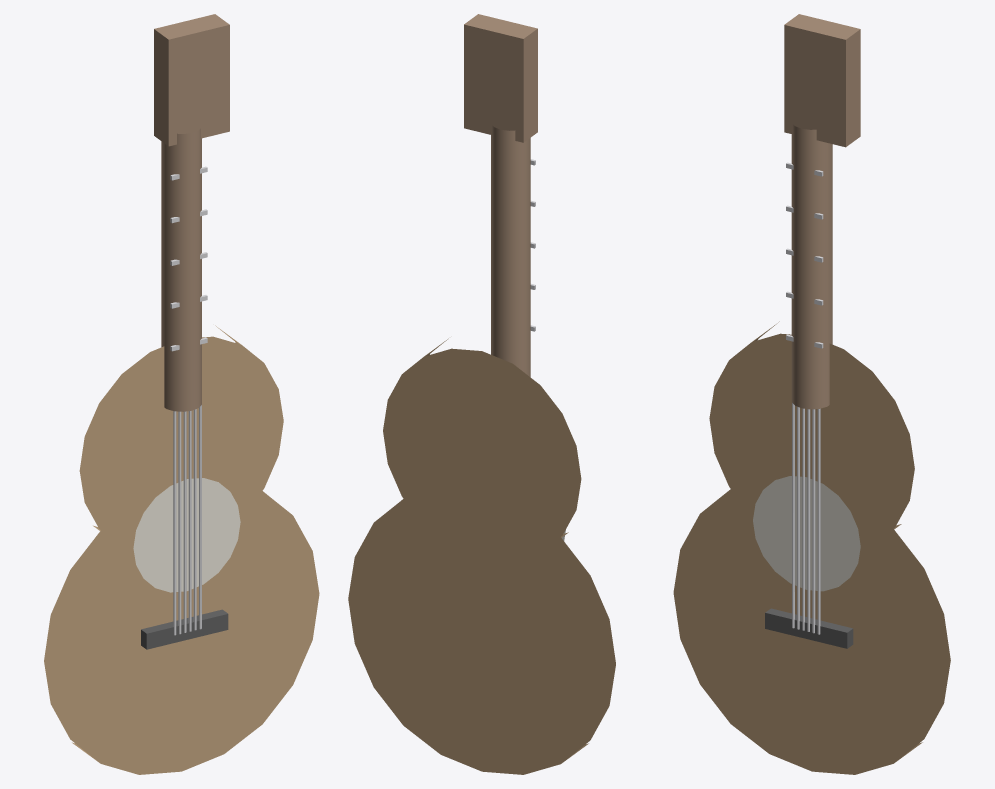
Rendered from guitar.glb.
3 views of the same model, side by side, from view 1: azimuth 30°, elevation 25°; view 2: azimuth 150°, elevation 25°; view 3: azimuth 330°, elevation 25° (orthographic). The views are drawn at different scales.
Parts seen in each view (by area): view 1: guitar; view 2: guitar; view 3: guitar.
Boxes of the visible parts, x1,y1,x2,y2 form: guitar: (44,14,319,774); guitar: (348,14,615,774); guitar: (673,14,950,774).
Size of the model in its own units: 0.54 by 1.39 by 0.135.
